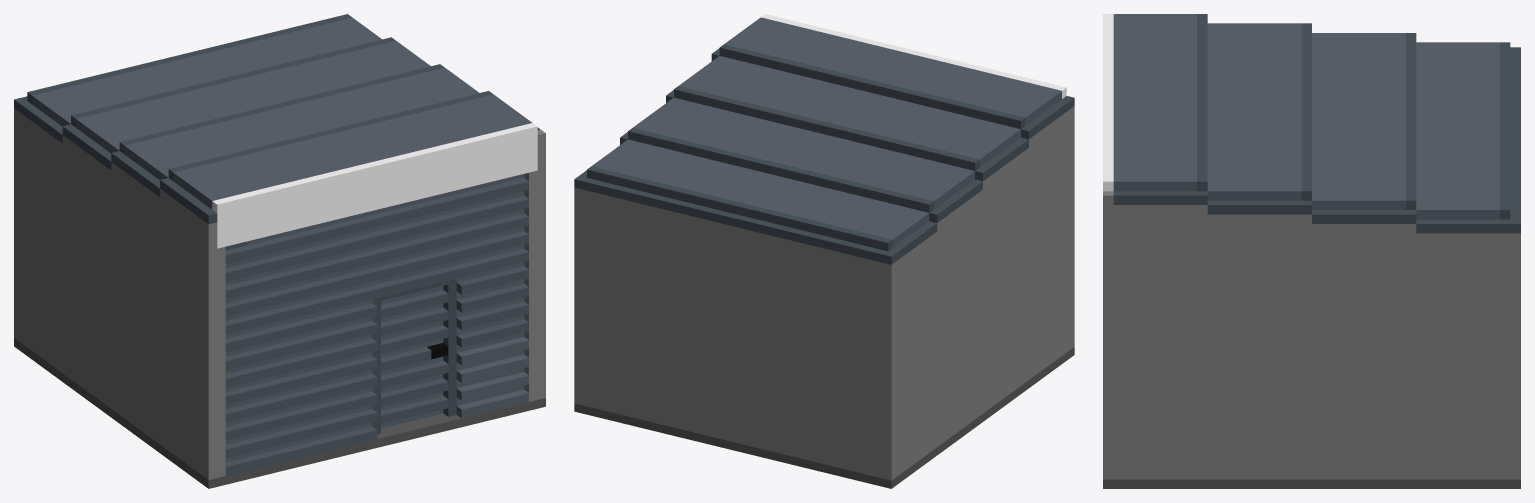
Rendered from prop_pitstop_filer.obj.
The picture shows the model from 3 angles, left to right: view 1: azimuth 30°, elevation 25°; view 2: azimuth 150°, elevation 25°; view 3: azimuth 270°, elevation 25°; orthographic projection. The views are drawn at different scales.
Size of the model in its own units: 4 by 3.2 by 4.
Materials: 1 (1 with a texture image).
